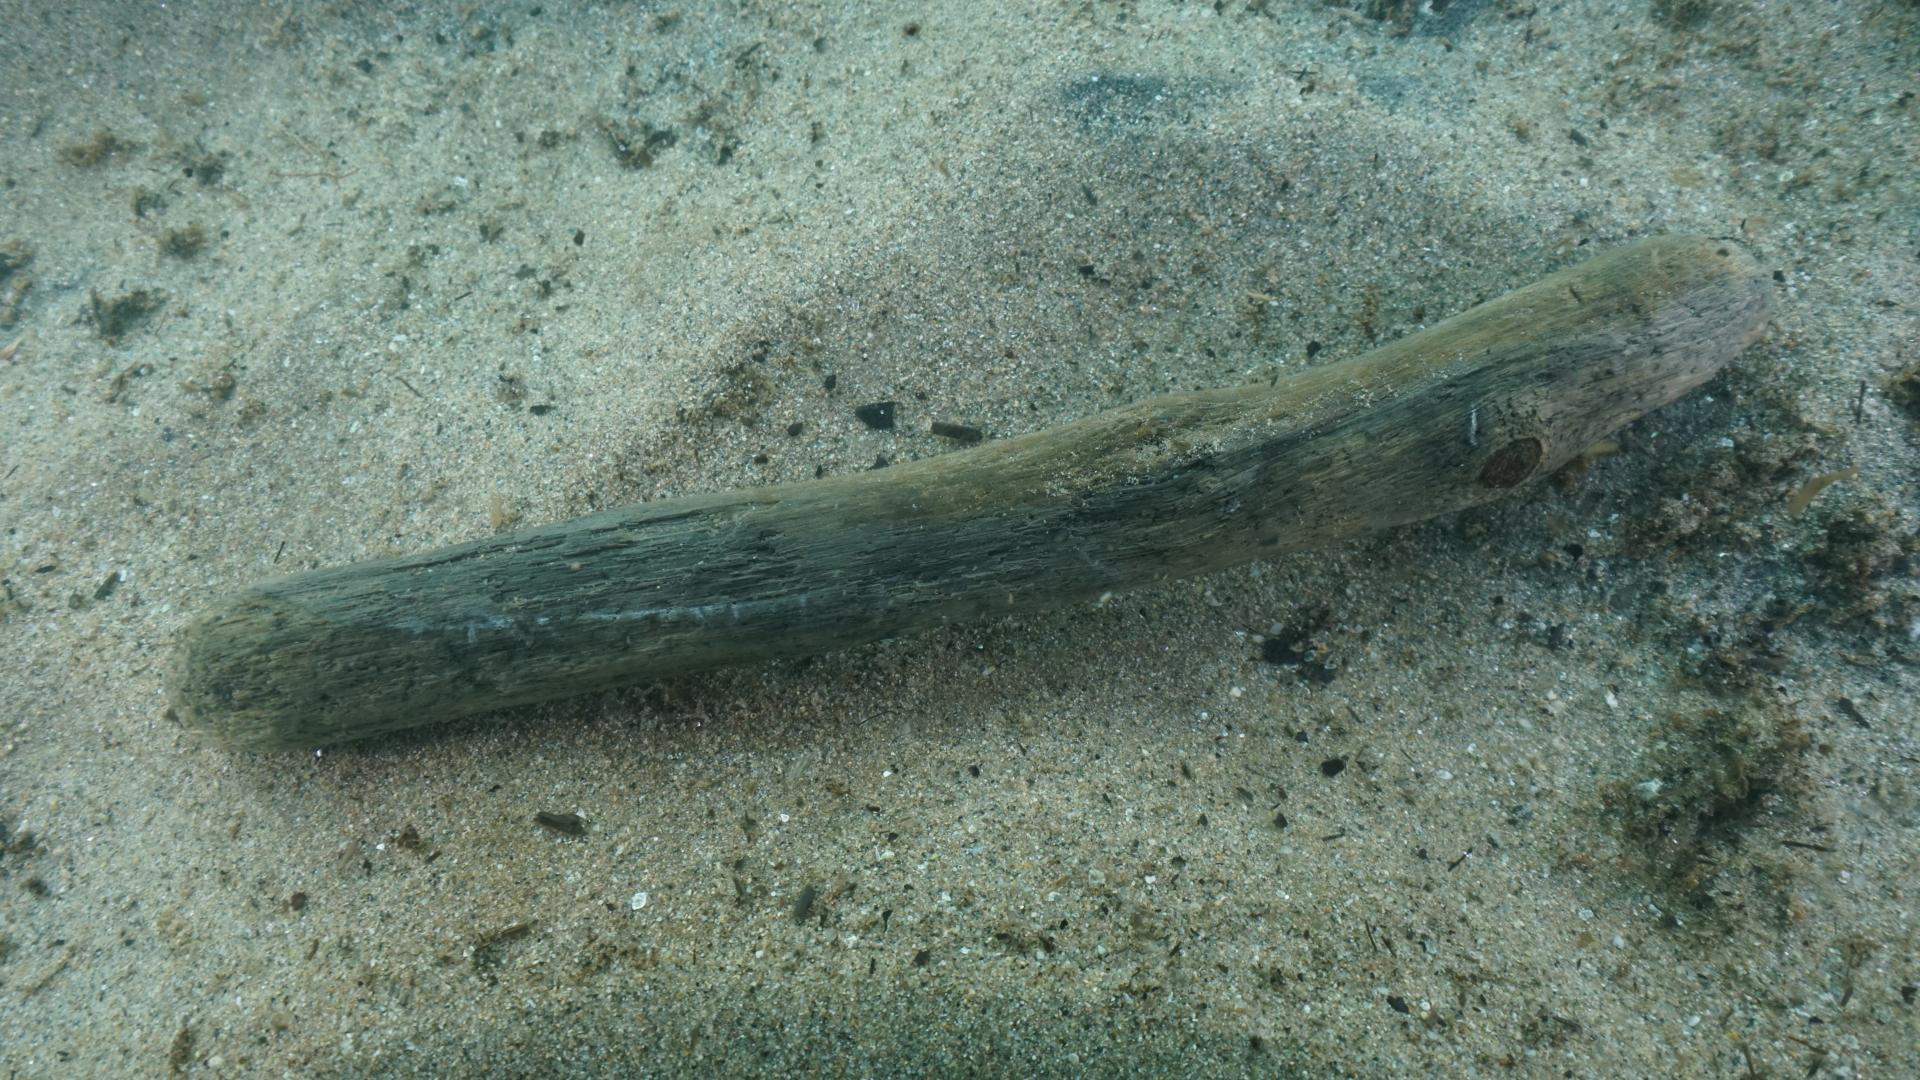wood: (160, 229, 1771, 756)
